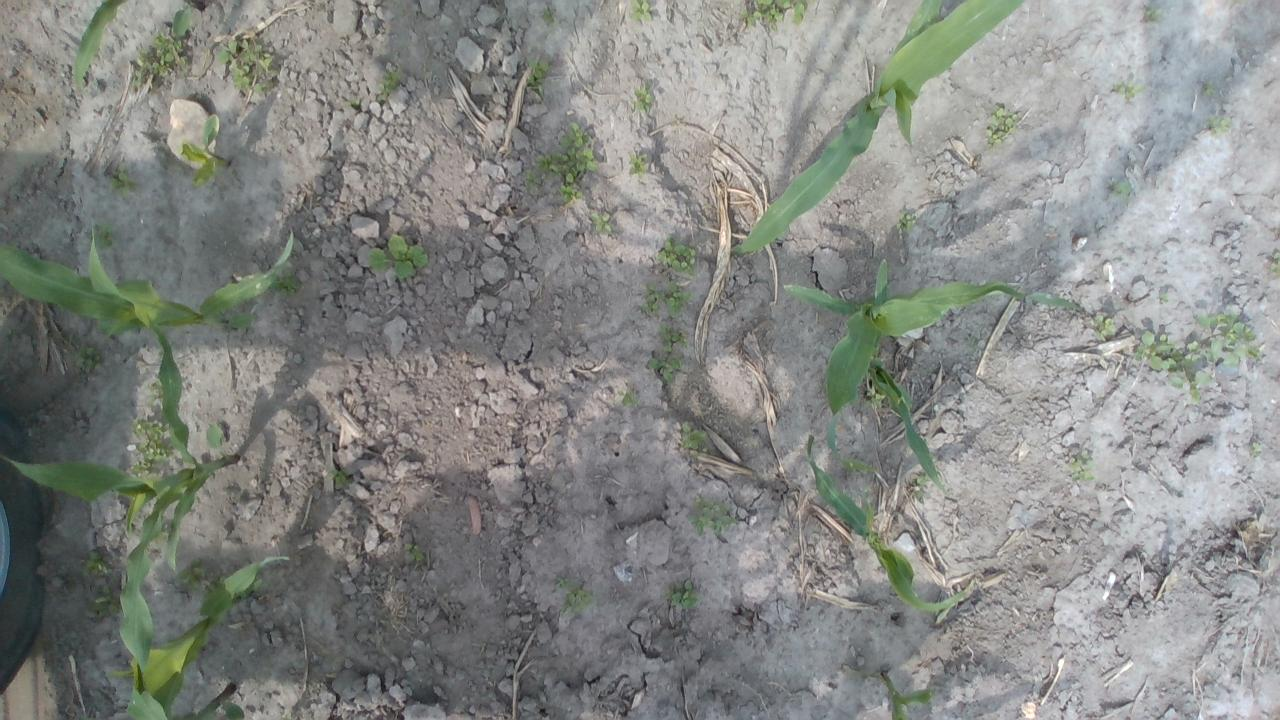Maize: (1, 314, 244, 672), (726, 0, 1032, 258), (782, 257, 1095, 496), (0, 219, 295, 338), (805, 433, 979, 626), (128, 552, 290, 718), (71, 1, 208, 91), (877, 664, 938, 720)
Weeds: (1136, 316, 1266, 402), (528, 121, 598, 204), (128, 9, 194, 87), (134, 380, 178, 476), (218, 37, 274, 95), (365, 234, 428, 280), (84, 548, 120, 622), (742, 0, 806, 32), (689, 501, 734, 536), (638, 283, 688, 312), (985, 106, 1016, 147), (558, 582, 595, 614), (170, 569, 212, 596), (378, 74, 407, 104), (659, 246, 695, 268), (671, 581, 699, 608), (650, 354, 677, 382), (72, 344, 98, 370), (90, 224, 116, 250), (204, 423, 226, 452), (110, 168, 132, 194), (684, 427, 710, 449), (530, 59, 548, 88), (1075, 456, 1093, 484), (1093, 314, 1113, 338), (630, 1, 651, 23), (593, 211, 613, 234), (1116, 85, 1140, 102), (662, 326, 682, 345), (333, 468, 348, 491), (634, 87, 651, 106), (900, 211, 915, 230), (406, 541, 419, 560), (1111, 182, 1126, 197), (1270, 254, 1280, 276), (631, 162, 646, 176), (1208, 121, 1227, 132), (620, 390, 632, 407), (1254, 442, 1262, 456)
